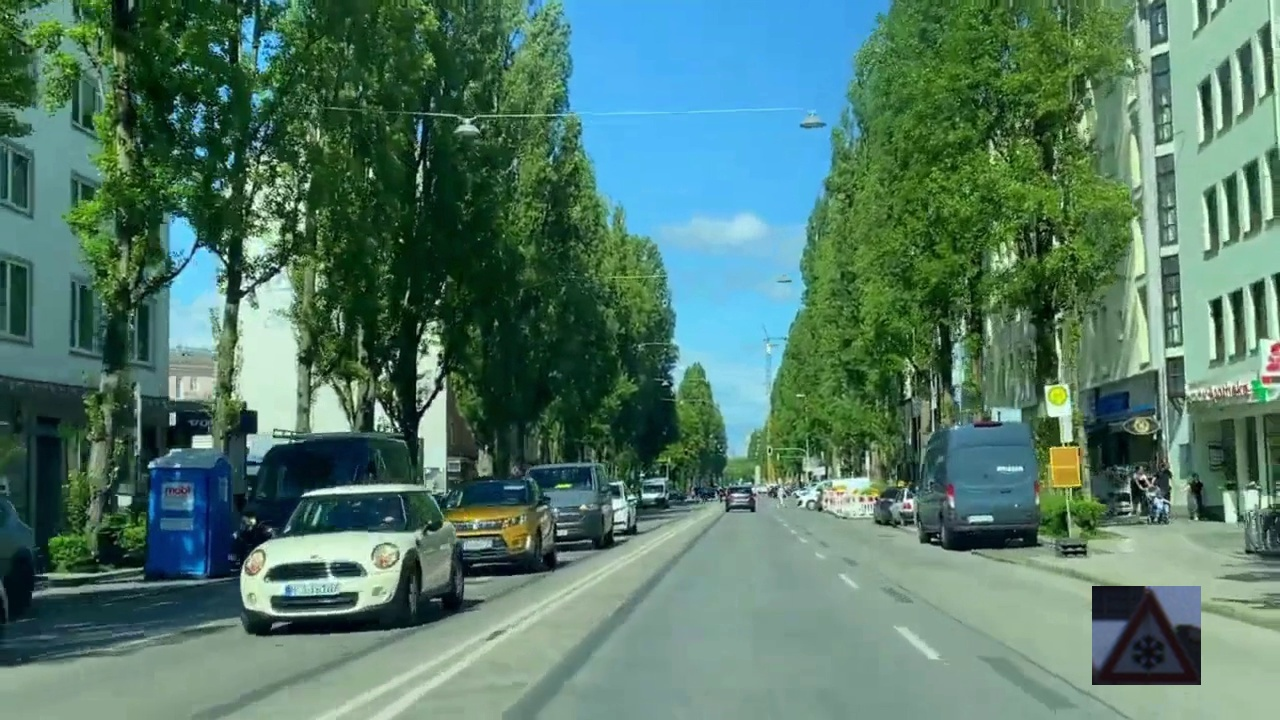Ice/snow: (1092, 586, 1201, 685)
